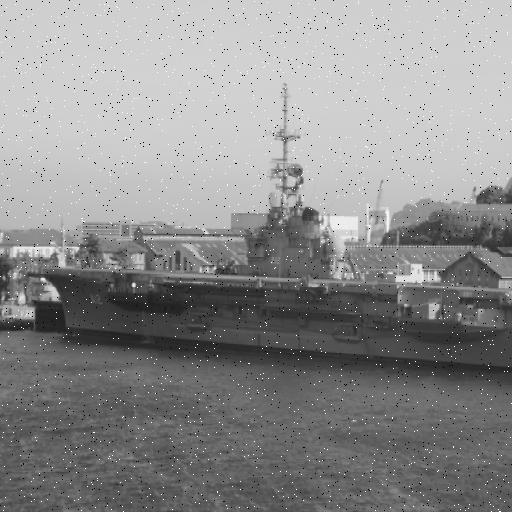Portanaves: (24, 74, 512, 383)
